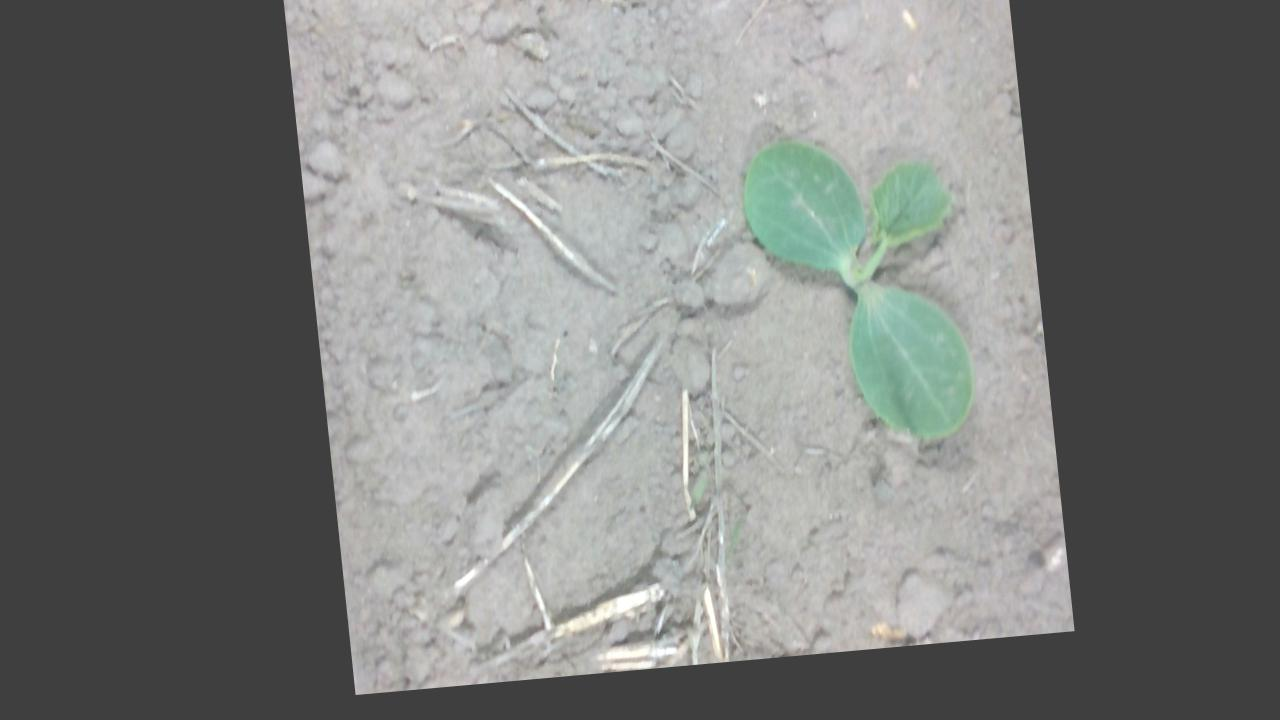crop: (730, 144, 973, 466)
